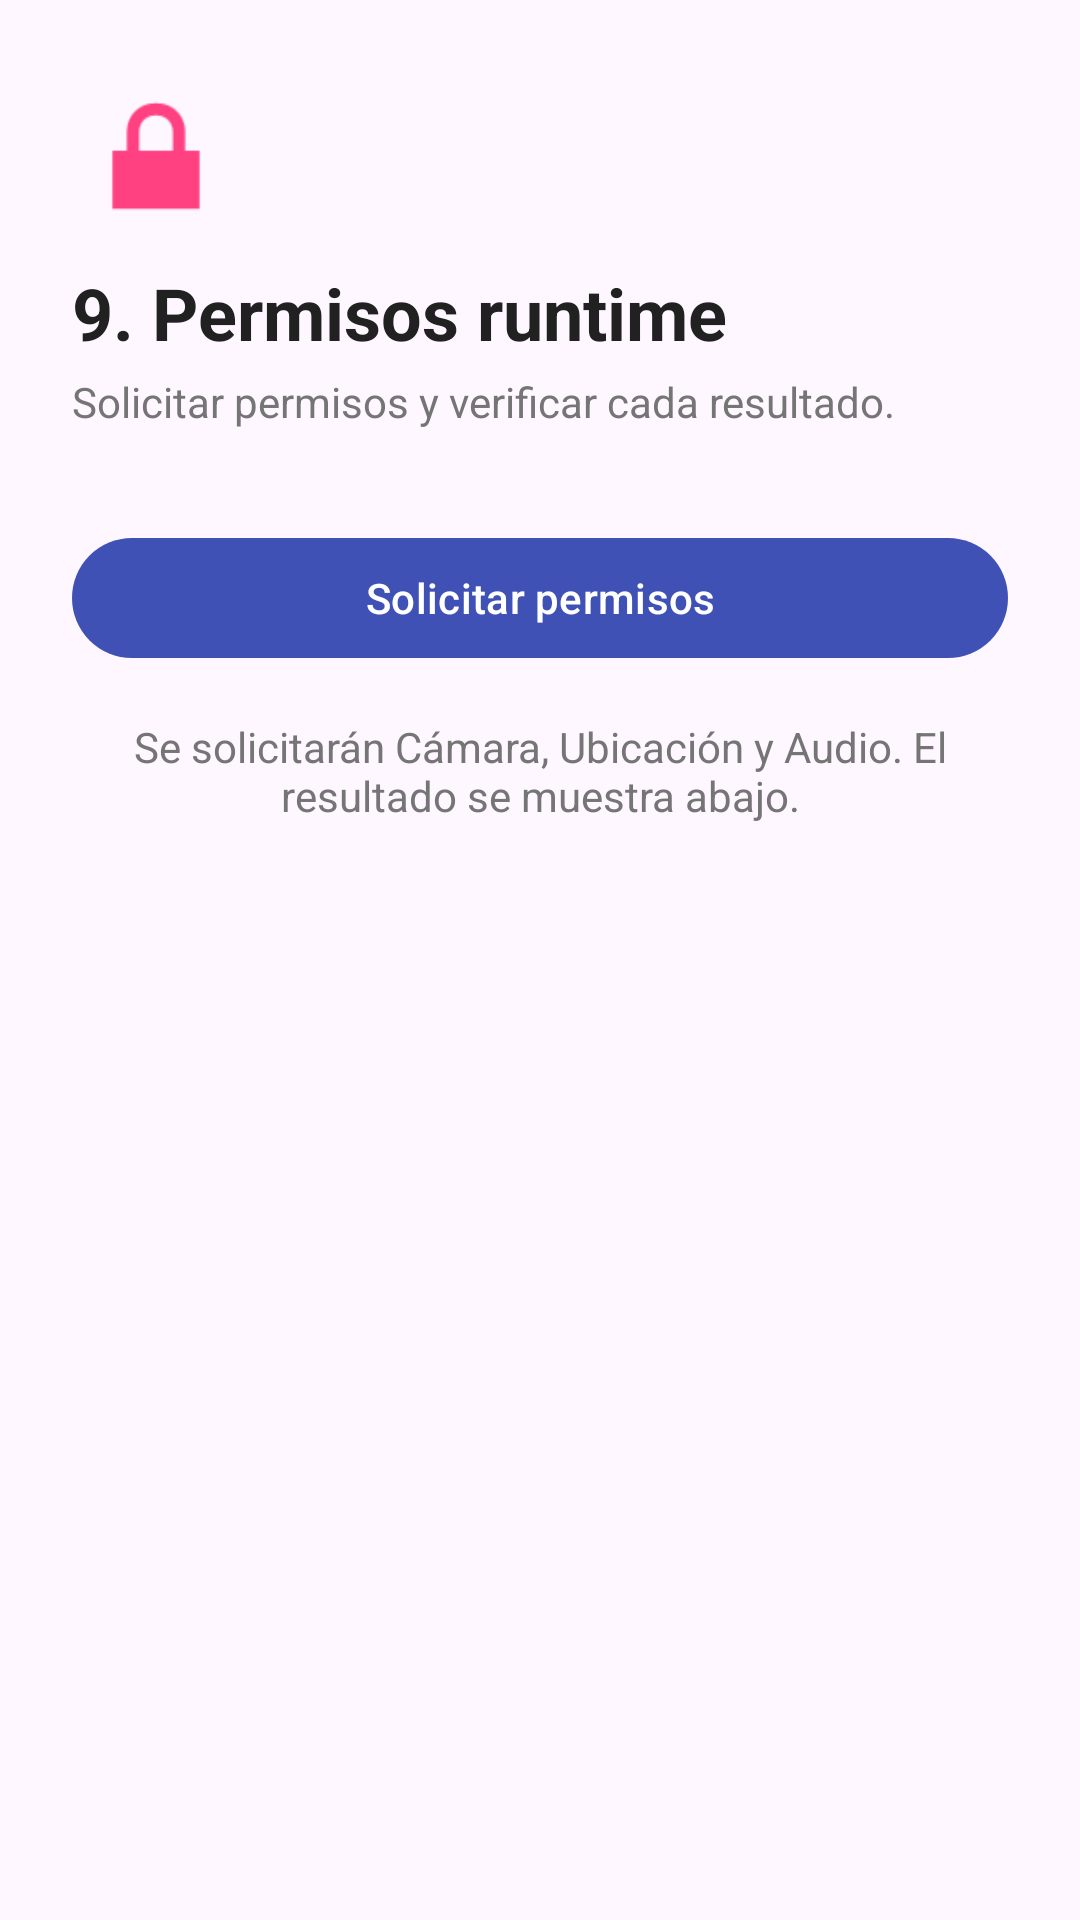

Where icons sit on this 1080x1920 app screen, as (x1, y1, x2, y2):
lock: (112, 102, 200, 210)
